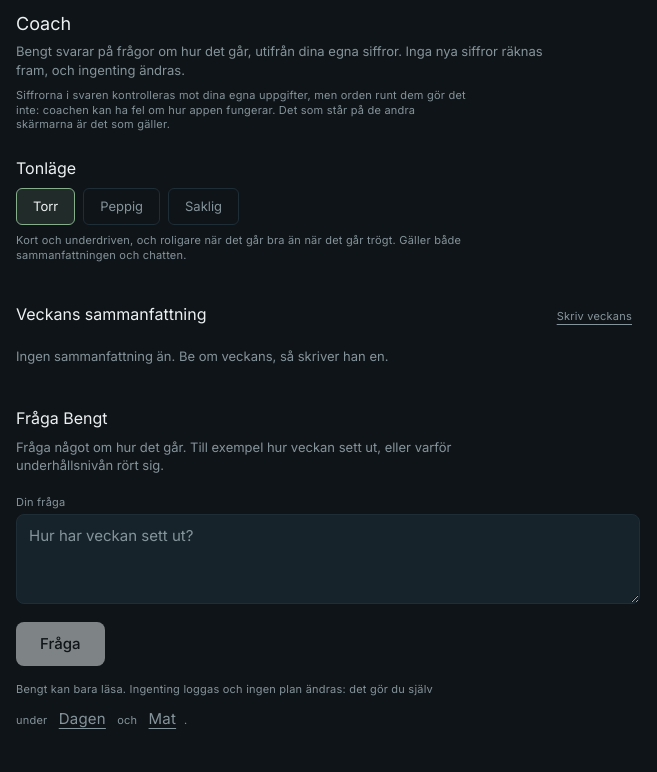
Test case: asking the coach › shows sentences as they arrive
Type "Hur går det?" into the text box with test id "coach-question" at (328, 559), box 16,514 -> 640,604
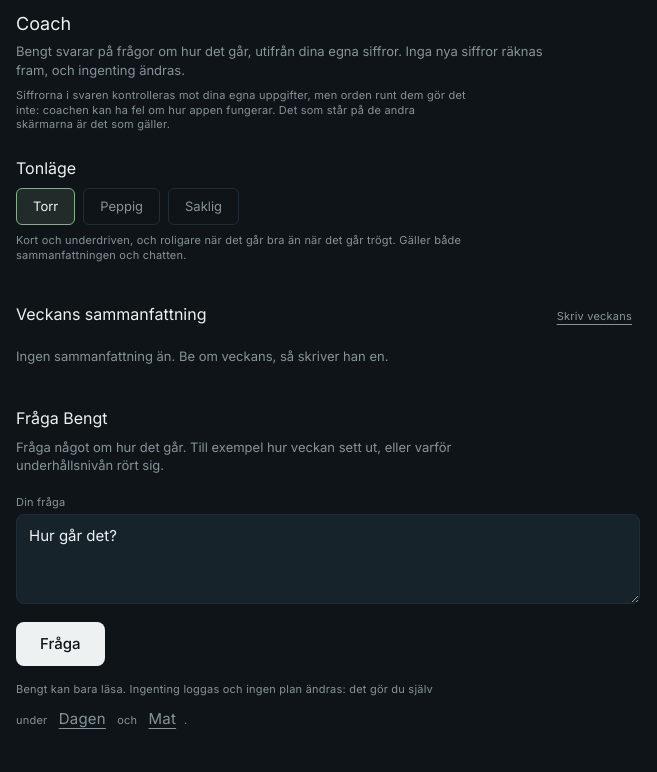
Click the button with test id "coach-send" at (60, 644), box 16,622 -> 104,666
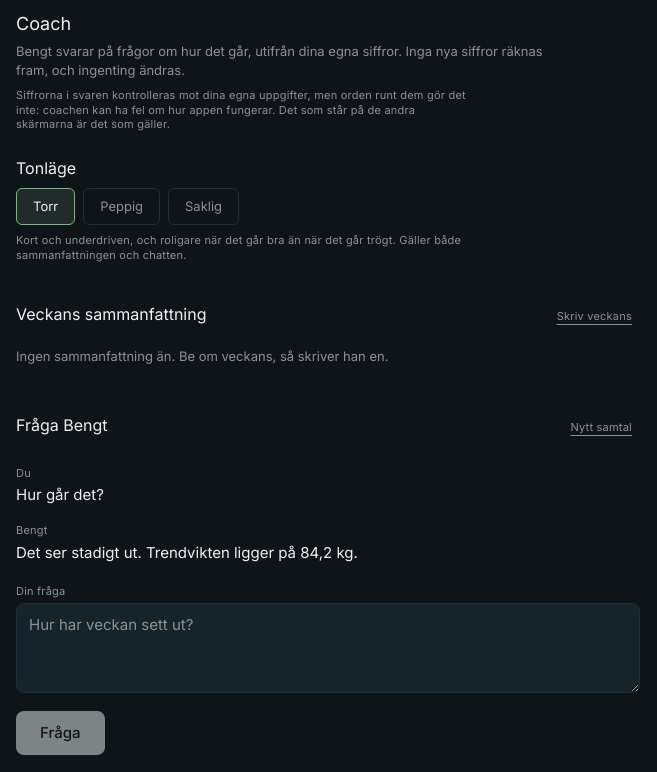
Check: the text "Det ser stadigt ut. Trendvikten ligger på 84,2 kg." is shown, box 16,543 -> 358,562
